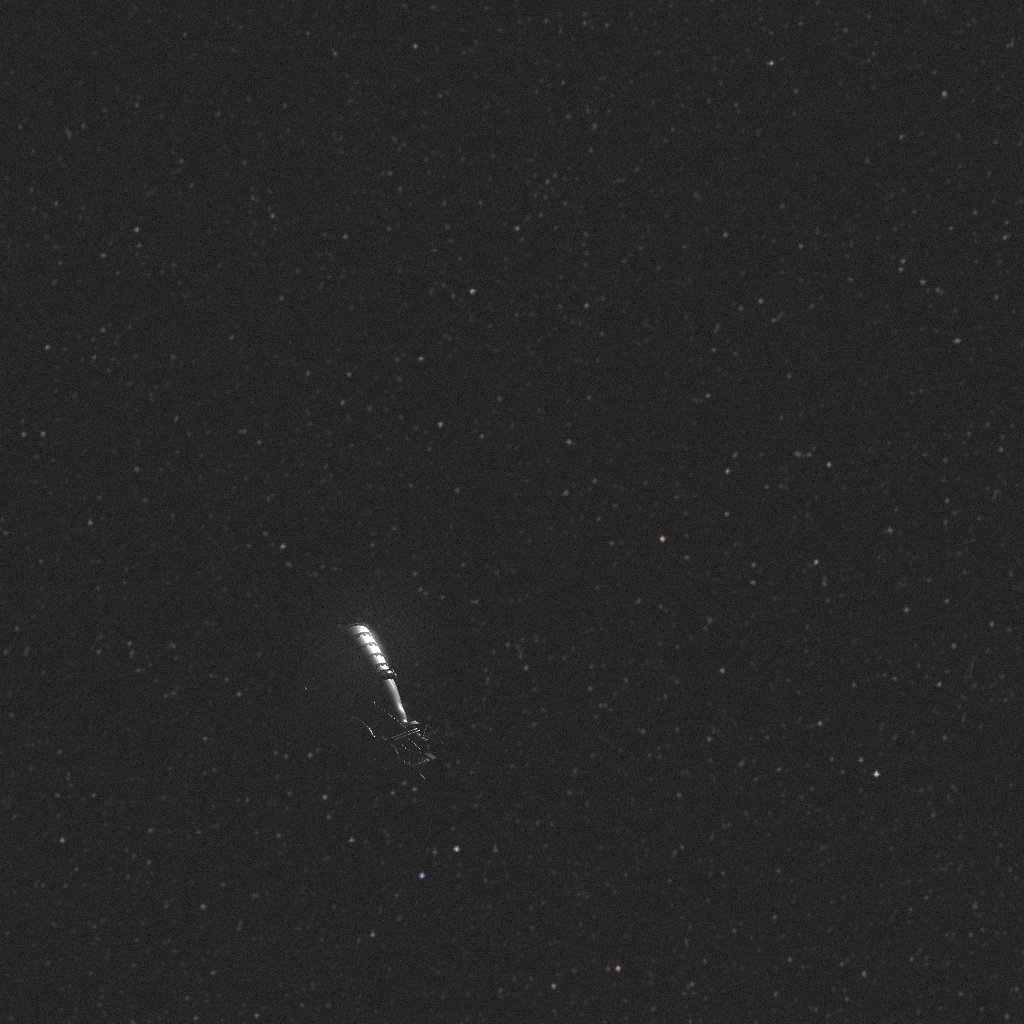debris: (280, 623, 443, 778)
